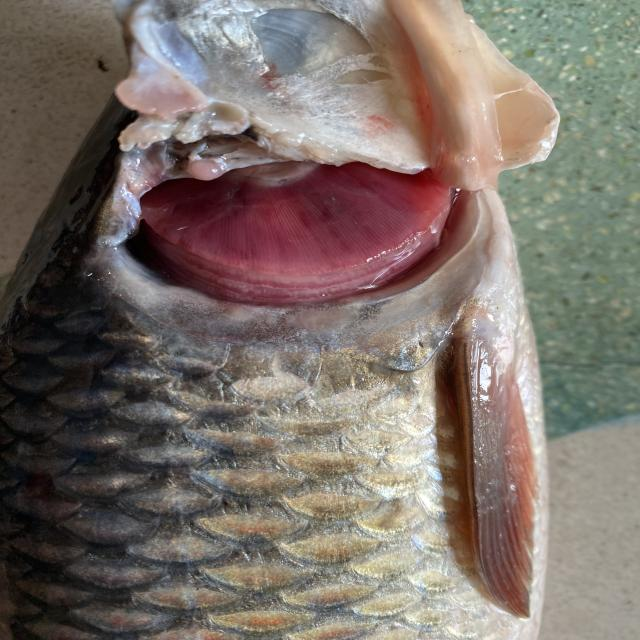Fresh: (140, 164, 482, 302)
